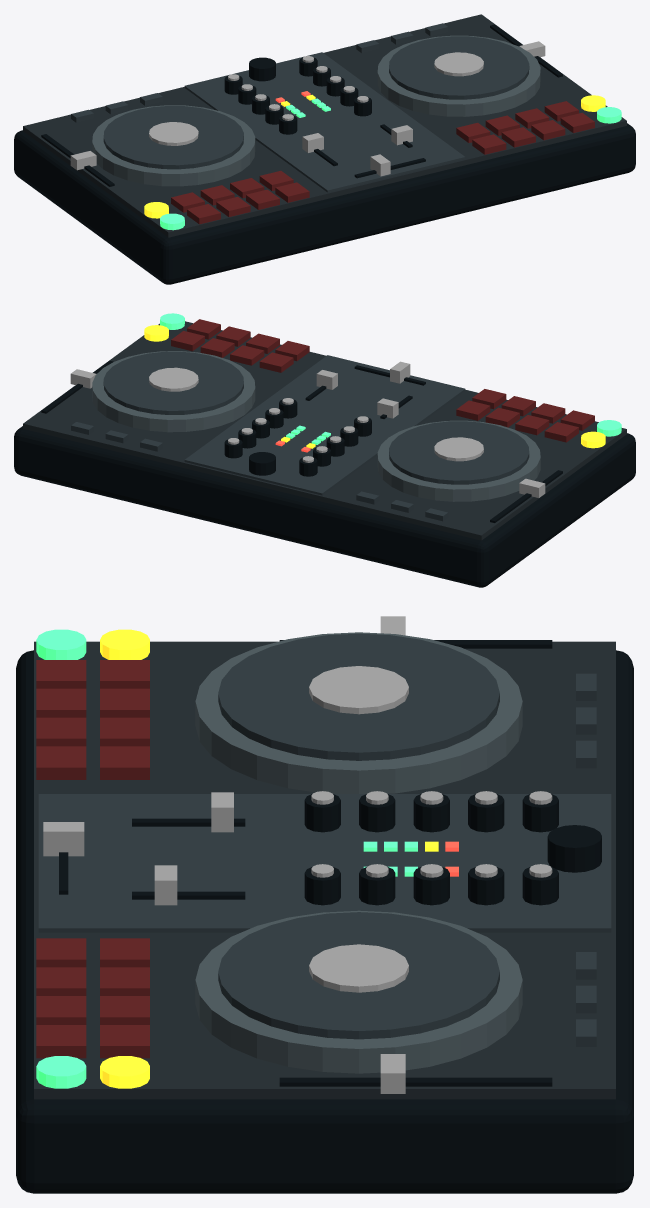
Rendered from ddj400.glb.
The picture shows the model from 3 angles, top to bottom: view 1: azimuth 30°, elevation 25°; view 2: azimuth 150°, elevation 25°; view 3: azimuth 270°, elevation 25°; orthographic projection. The views are drawn at different scales.
Parts seen in each view (by area): view 1: #070F14, #323E44, #252E33, #505E63, #682121, #B3B3B3, glow:#3BE36E, glow:#FFB020; view 2: #070F14, #323E44, #252E33, #505E63, #682121, #B3B3B3, glow:#3BE36E, glow:#FFB020; view 3: #323E44, #070F14, #252E33, #505E63, #682121, #B3B3B3, glow:#3BE36E, glow:#FFB020.
Boxes of the visible parts, left/top/right/bottom form: #070F14: left=14, top=24, right=635, bottom=284; #323E44: left=71, top=23, right=529, bottom=192; #252E33: left=23, top=14, right=626, bottom=237; #505E63: left=92, top=35, right=540, bottom=186; #682121: left=171, top=101, right=594, bottom=224; #B3B3B3: left=70, top=41, right=545, bottom=176; glow:#3BE36E: left=160, top=98, right=621, bottom=230; glow:#FFB020: left=144, top=94, right=605, bottom=218; #070F14: left=14, top=360, right=635, bottom=587; #323E44: left=71, top=351, right=529, bottom=521; #252E33: left=23, top=321, right=626, bottom=540; #505E63: left=92, top=351, right=540, bottom=501; #682121: left=171, top=319, right=594, bottom=442; #B3B3B3: left=70, top=361, right=545, bottom=497; glow:#3BE36E: left=160, top=313, right=621, bottom=444; glow:#FFB020: left=144, top=325, right=605, bottom=448; #323E44: left=38, top=633, right=611, bottom=1046; #070F14: left=16, top=640, right=633, bottom=1193; #252E33: left=34, top=641, right=615, bottom=1099; #505E63: left=195, top=632, right=522, bottom=1073; #682121: left=36, top=660, right=149, bottom=1058; #B3B3B3: left=43, top=616, right=552, bottom=1093; glow:#3BE36E: left=36, top=629, right=417, bottom=1088; glow:#FFB020: left=100, top=629, right=438, bottom=1088.
Size of the model in its own units: 0.482 by 0.069 by 0.272.
